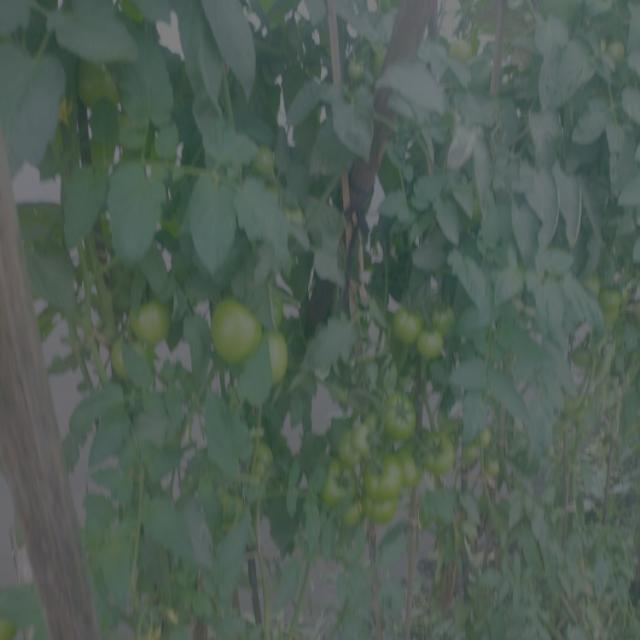tomato: (206, 295, 260, 370), (76, 53, 127, 116), (124, 296, 178, 345), (384, 396, 424, 446), (111, 338, 153, 380), (416, 436, 457, 478), (266, 328, 294, 387), (361, 457, 402, 497), (248, 143, 286, 184), (322, 465, 356, 506), (390, 306, 422, 345), (451, 32, 485, 68), (347, 42, 375, 85), (250, 440, 279, 480), (333, 432, 369, 464), (416, 337, 449, 371), (571, 339, 603, 371), (219, 487, 247, 523), (371, 495, 403, 525), (352, 412, 380, 446), (598, 279, 625, 313), (285, 197, 314, 227), (606, 35, 632, 67), (429, 305, 456, 335), (342, 501, 365, 529), (474, 422, 496, 444), (404, 456, 423, 480), (466, 443, 483, 466), (489, 457, 506, 479)
